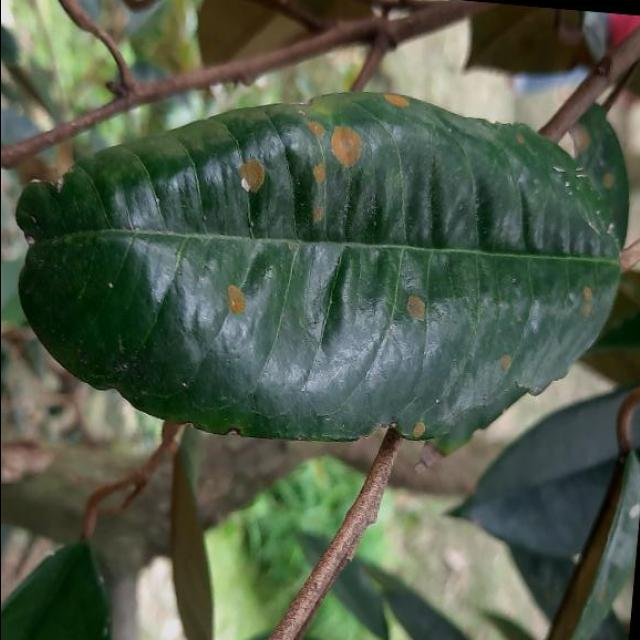Algal Leaf Spot: (0, 60, 639, 466)
